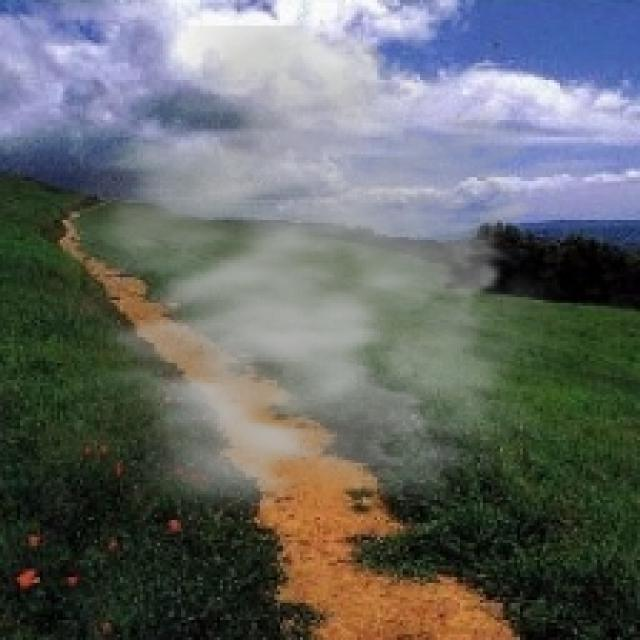Smoke: (62, 26, 594, 543)
